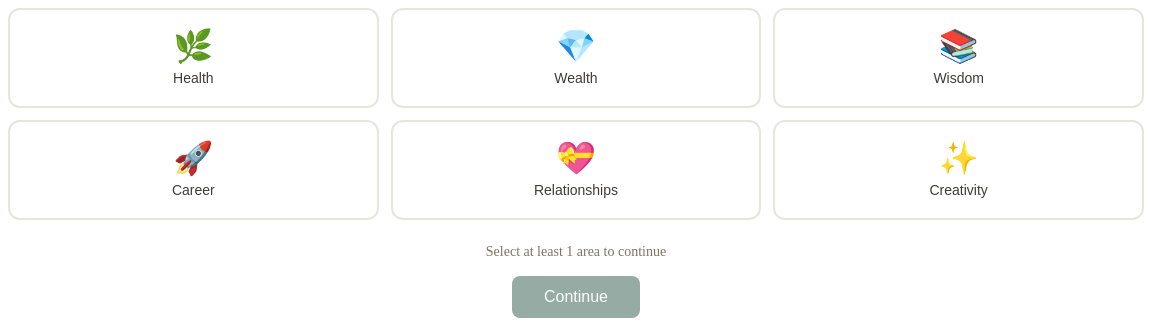
Test: AC3: Interest Selection › should require at least 1 selection before proceeding
Check: the button "Continue" is disabled, box [512, 276, 640, 318]
# Select one area
Click the text "Health" at (193, 78), box [173, 70, 214, 86]
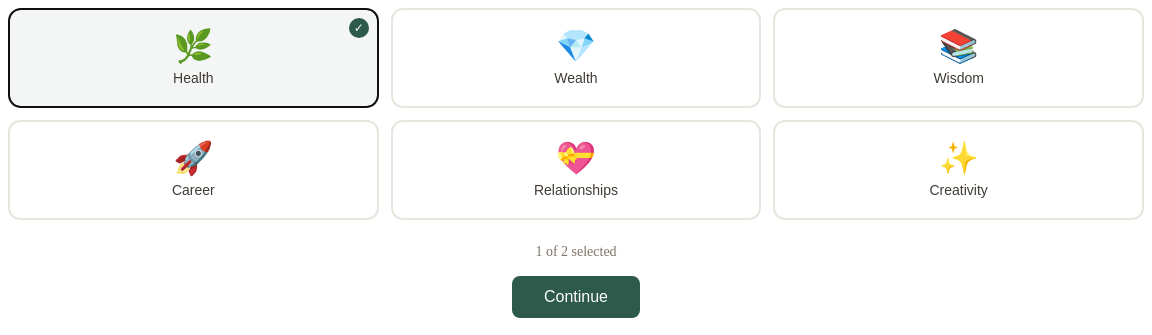
Check: the button "Continue" is enabled, box [512, 276, 640, 318]
